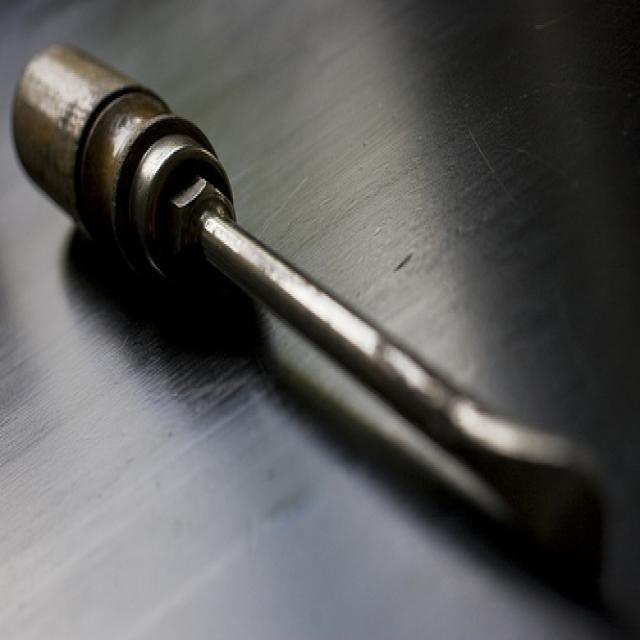screwdriver: (0, 29, 625, 592)
